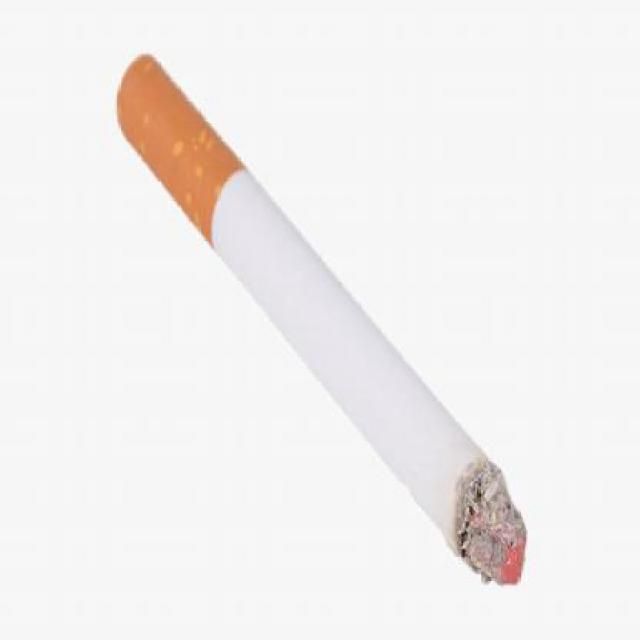cigarette: (104, 40, 542, 603)
